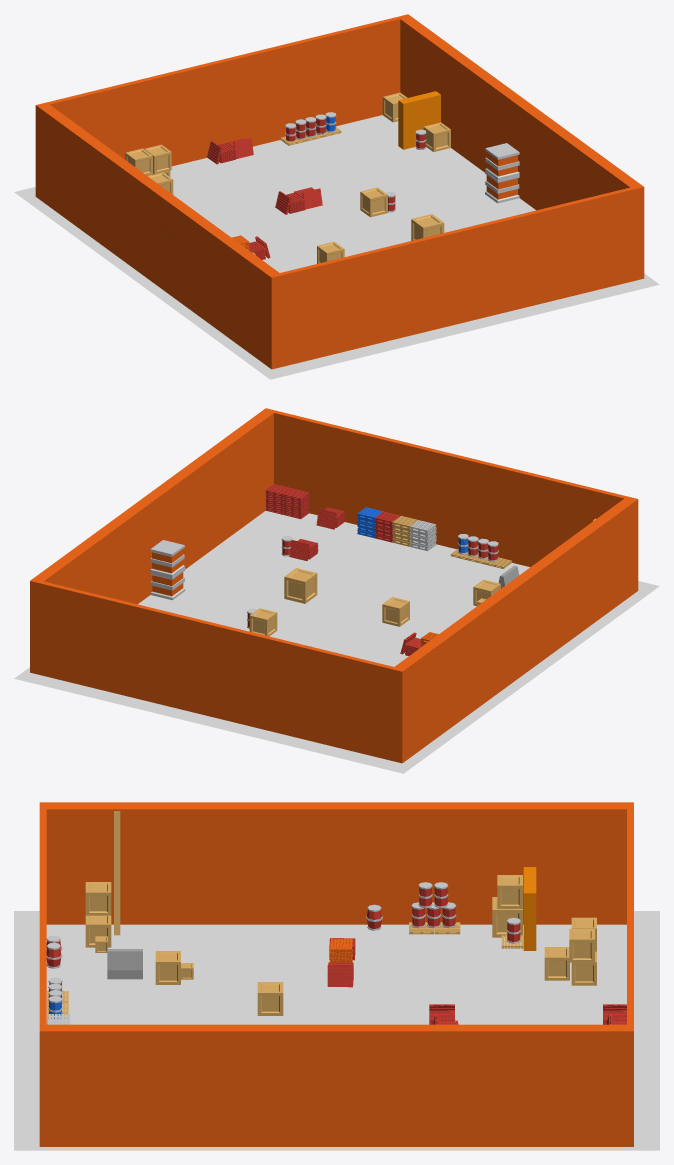
File: Map0.glb
3 renders of one model, top to bottom at view 1: azimuth 30°, elevation 25°; view 2: azimuth 150°, elevation 25°; view 3: azimuth 270°, elevation 25°, orthographic. The views are drawn at different scales.
Visible parts, largest first — view 1: floors, Plane, obj.004, BigBox.001, BigBox.004, Box.050, Box.047, Box.004, Box.028; view 2: floors, Plane, BigBox.001, Box.047, BigBox.004, obj.055, obj.062, Box.051, Box.050, obj.063, obj.054, obj.040 (+1 smaller); view 3: floors, Plane, obj.028, Cube.036, Box.051, Box.003, Box.049, Box.036, Box.029, Box.028, Cube.031, Box.002 (+4 smaller).
Part boxes in pixels (x1=…): floors: x1=35, y1=14, x2=644, y2=369; Plane: x1=14, y1=115, x2=659, y2=379; obj.004: x1=398, y1=91, x2=440, y2=149; BigBox.001: x1=485, y1=143, x2=519, y2=180; BigBox.004: x1=485, y1=171, x2=519, y2=203; Box.050: x1=360, y1=187, x2=387, y2=217; Box.047: x1=411, y1=214, x2=444, y2=240; Box.004: x1=423, y1=122, x2=450, y2=151; Box.028: x1=144, y1=144, x2=171, y2=174; floors: x1=30, y1=408, x2=638, y2=763; Plane: x1=14, y1=511, x2=659, y2=773; BigBox.001: x1=150, y1=540, x2=184, y2=577; Box.047: x1=284, y1=568, x2=317, y2=603; BigBox.004: x1=150, y1=568, x2=185, y2=600; obj.055: x1=410, y1=520, x2=436, y2=551; obj.062: x1=283, y1=488, x2=309, y2=518; Box.051: x1=382, y1=597, x2=409, y2=626; Box.050: x1=249, y1=608, x2=277, y2=636; obj.063: x1=265, y1=484, x2=291, y2=514; obj.054: x1=392, y1=516, x2=418, y2=546; obj.040: x1=357, y1=507, x2=382, y2=538; floors: x1=39, y1=802, x2=633, y2=1146; Plane: x1=14, y1=911, x2=659, y2=1150; obj.028: x1=523, y1=867, x2=536, y2=950; Cube.036: x1=107, y1=949, x2=142, y2=979; Box.051: x1=257, y1=982, x2=283, y2=1015; Box.003: x1=85, y1=882, x2=111, y2=915; Box.049: x1=155, y1=951, x2=180, y2=984; Box.036: x1=497, y1=875, x2=522, y2=908; Box.029: x1=544, y1=947, x2=569, y2=980; Box.028: x1=569, y1=929, x2=594, y2=962; Cube.031: x1=114, y1=811, x2=120, y2=935; Box.002: x1=85, y1=915, x2=111, y2=947.
Size of the model in its own units: 35.57 by 8.02 by 40.53.
